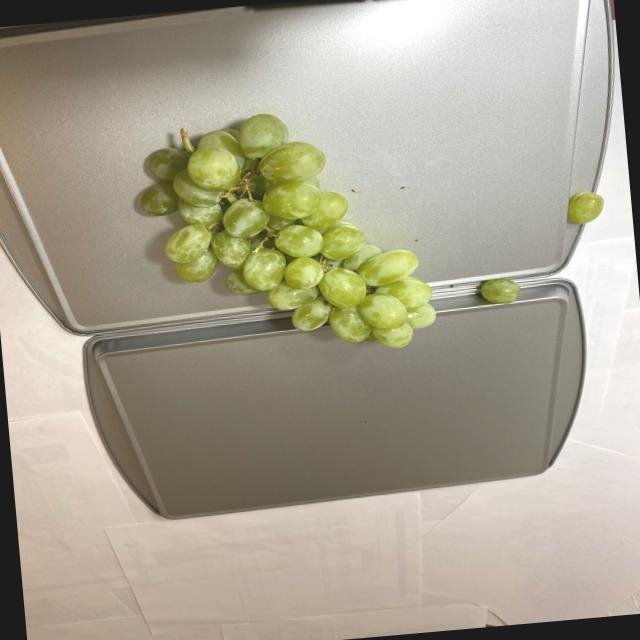grapes: (129, 100, 445, 364), (562, 189, 610, 228), (474, 277, 522, 306)
